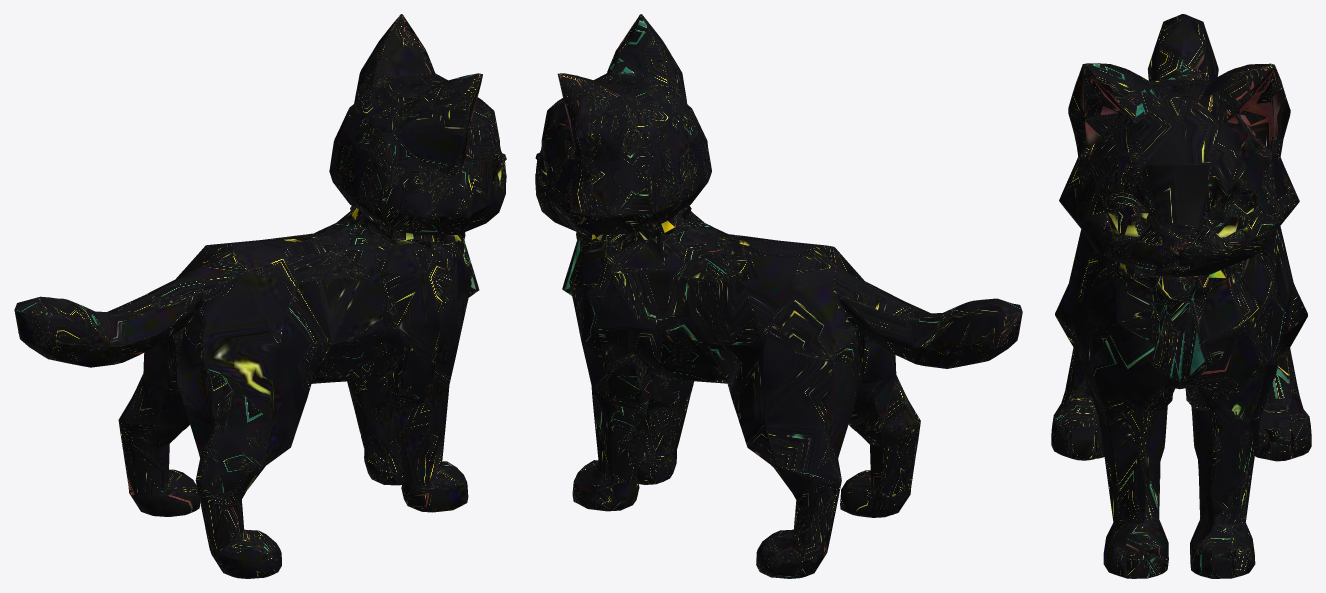
The model's file is TARTANPAW-lo.glb.
The picture shows the model from 3 angles, left to right: view 1: azimuth 30°, elevation 25°; view 2: azimuth 150°, elevation 25°; view 3: azimuth 270°, elevation 25°; orthographic projection. The views are drawn at different scales.
Parts seen in each view (by area): view 1: fit; view 2: fit; view 3: fit.
Part boxes in pixels (box(x1,y1,x2,y2)): fit: box(14, 14, 506, 578); fit: box(535, 14, 1022, 578); fit: box(1051, 14, 1311, 578).
Size of the model in its own units: 1.16 by 0.9994 by 0.4579.
1 material, 1 textured.
